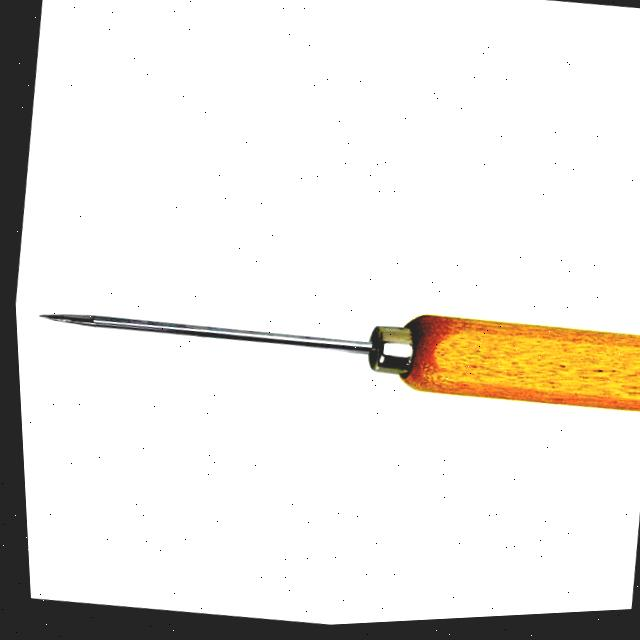ice pick: (25, 254, 640, 446)
